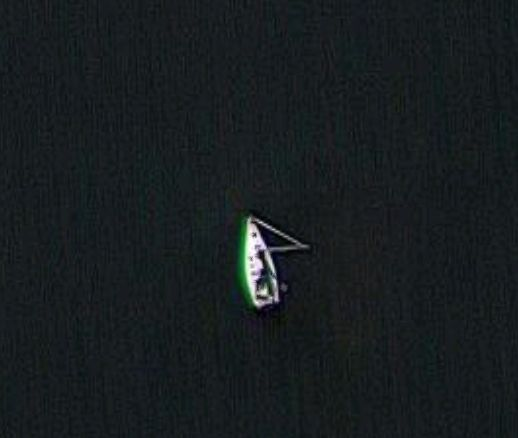boat: (237, 214, 314, 313)
